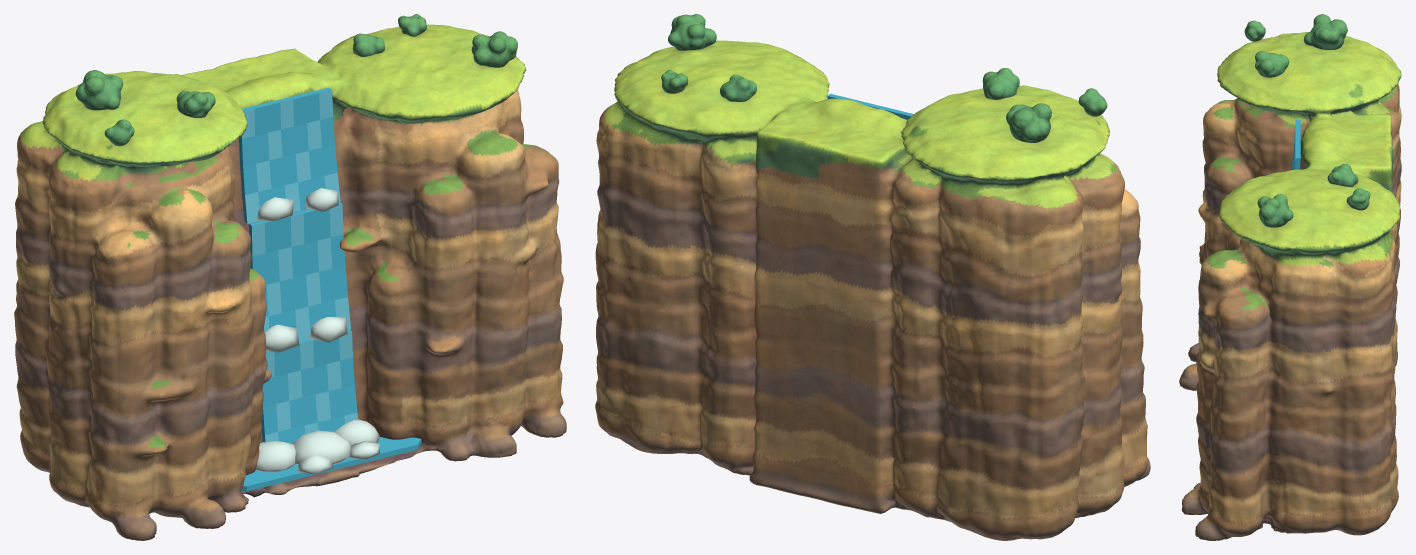
Rendered from B04_WaterfallCliff.fbx.
3 views of the same model, side by side, from view 1: azimuth 30°, elevation 25°; view 2: azimuth 150°, elevation 25°; view 3: azimuth 270°, elevation 25° (orthographic). The views are drawn at different scales.
Visible parts, largest first — view 1: B04_WaterfallCliff_Rock, B04_WaterfallCliff_Water, B04_WaterfallCliff_Foam; view 2: B04_WaterfallCliff_Rock; view 3: B04_WaterfallCliff_Rock, B04_WaterfallCliff_Water.
Boxes of the visible parts, x1=… form: B04_WaterfallCliff_Rock: x1=14, y1=14, x2=566, y2=540; B04_WaterfallCliff_Water: x1=239, y1=87, x2=421, y2=491; B04_WaterfallCliff_Foam: x1=255, y1=188, x2=380, y2=474; B04_WaterfallCliff_Rock: x1=595, y1=14, x2=1150, y2=540; B04_WaterfallCliff_Rock: x1=1179, y1=14, x2=1401, y2=540; B04_WaterfallCliff_Water: x1=1291, y1=119, x2=1300, y2=170.
Bounding box in the file's own units: 14.5 × 11.7 × 6.7.
